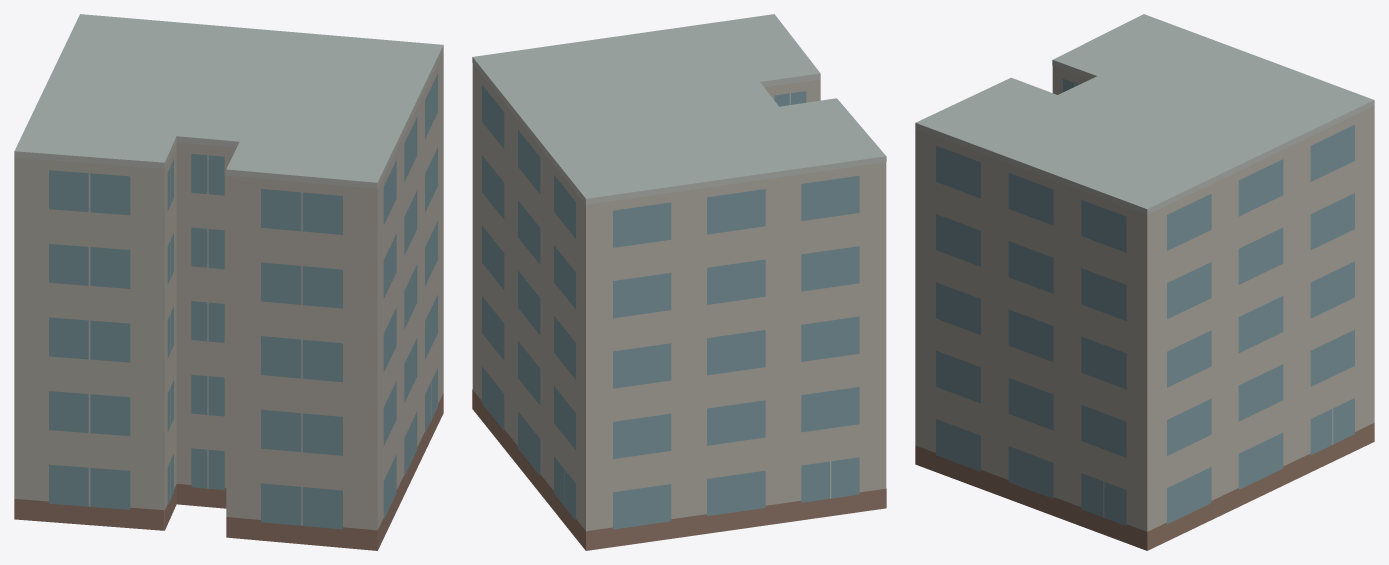
Rendered from survey-upis-32984956.glb.
3 views of the same model, side by side, from view 1: azimuth 30°, elevation 25°; view 2: azimuth 150°, elevation 25°; view 3: azimuth 270°, elevation 25° (orthographic). The views are drawn at different scales.
Visible parts, largest first — view 1: survey-upis-32984956.tmp; view 2: survey-upis-32984956.tmp; view 3: survey-upis-32984956.tmp.
Boxes of the visible parts, x1,y1,x2,y2 form: survey-upis-32984956.tmp: (14, 14, 443, 550); survey-upis-32984956.tmp: (472, 14, 886, 550); survey-upis-32984956.tmp: (915, 14, 1374, 550).
Bounding box in the file's own units: 17.9 × 14.6 × 17.79.
